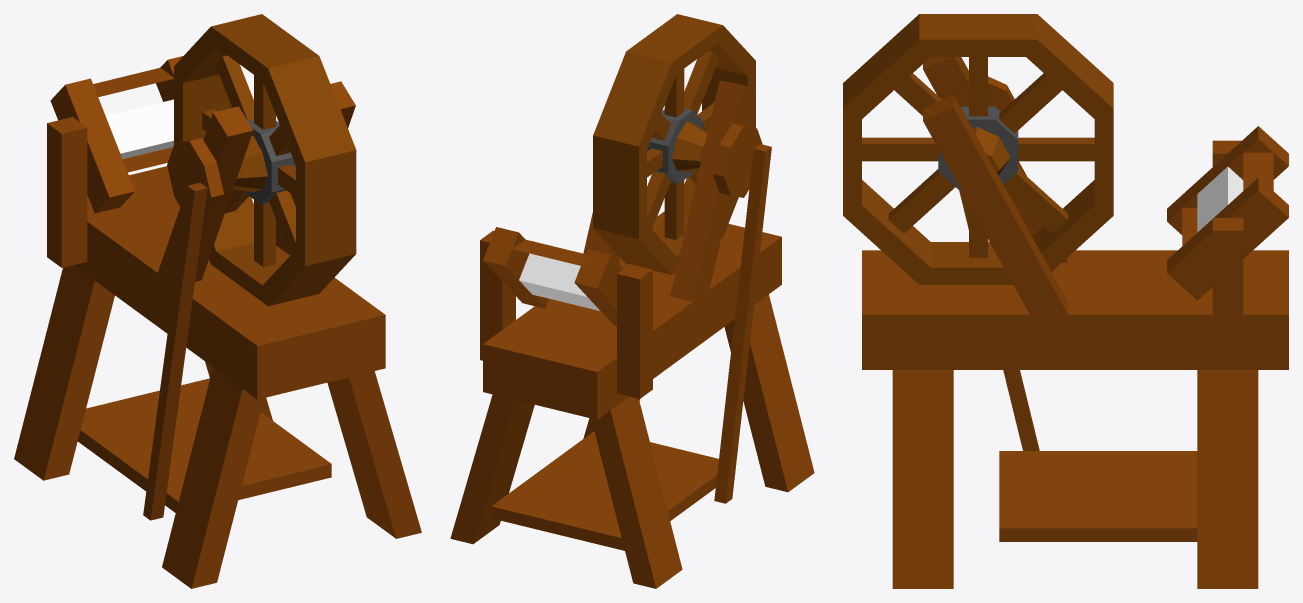
File: spinningwheel.obj
The picture shows the model from 3 angles, left to right: view 1: azimuth 30°, elevation 25°; view 2: azimuth 150°, elevation 25°; view 3: azimuth 270°, elevation 25°; orthographic projection. The views are drawn at different scales.
Visible parts, largest first — view 1: spinningwheel_back; view 2: spinningwheel_back; view 3: spinningwheel_back.
Part boxes in pixels (<box>): spinningwheel_back: <box>14,14,421,588</box>; spinningwheel_back: <box>450,14,814,588</box>; spinningwheel_back: <box>843,14,1288,588</box>.
Size of the model in its own units: 0.72 by 1.46 by 1.17.
